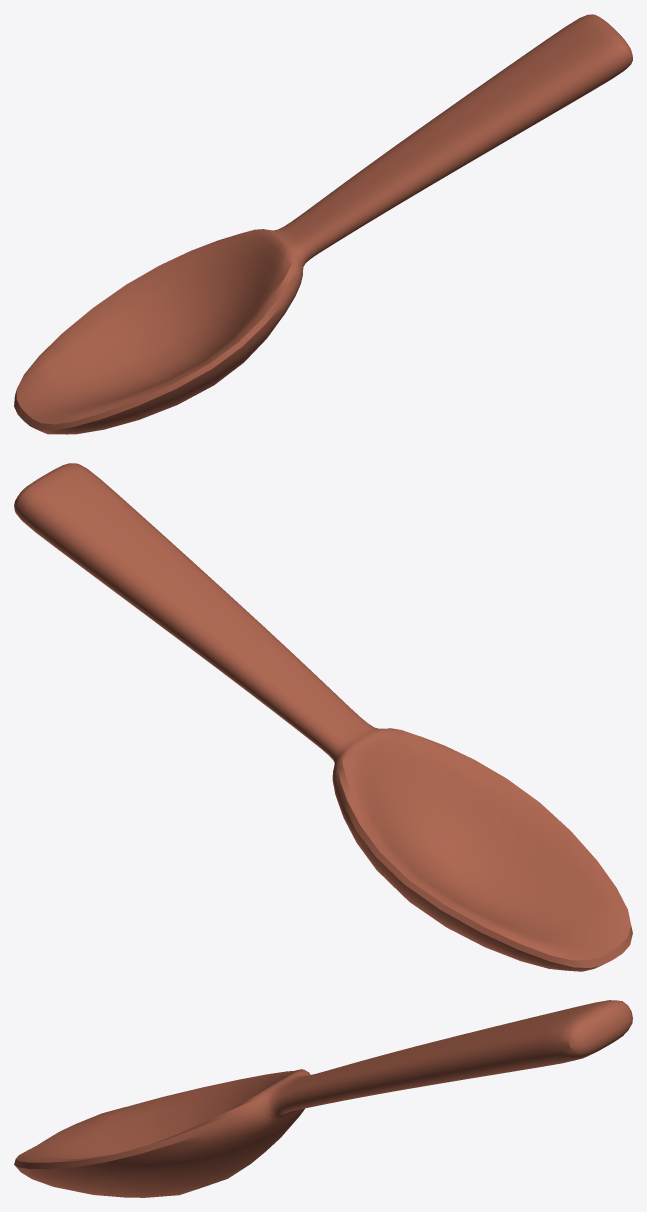
The model's file is pirinckasik.fbx.
3 renders of one model, top to bottom at view 1: azimuth 30°, elevation 25°; view 2: azimuth 150°, elevation 25°; view 3: azimuth 330°, elevation 25°, orthographic. The views are drawn at different scales.
Visible parts, largest first — view 1: pirinckasik; view 2: pirinckasik; view 3: pirinckasik.
Boxes of the visible parts, x1,y1,x2,y2 form: pirinckasik: [14, 14, 632, 434]; pirinckasik: [14, 463, 632, 971]; pirinckasik: [14, 1000, 632, 1197].
Bounding box in the file's own units: 196 × 98.41 × 63.25.
